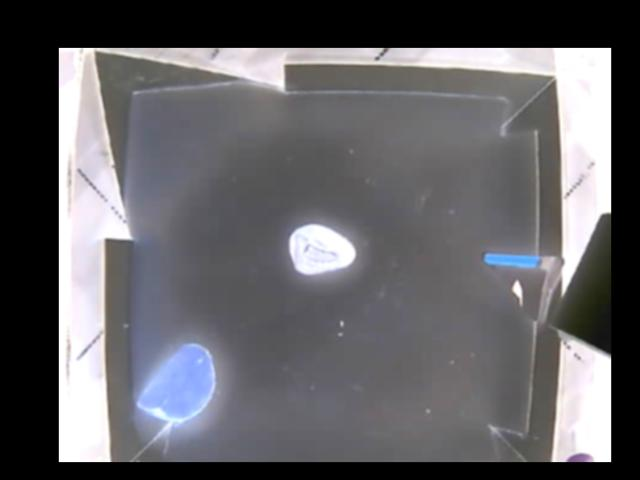China: (485, 255, 562, 324)
Pebble: (286, 223, 358, 273)
Potato: (135, 340, 218, 422)
